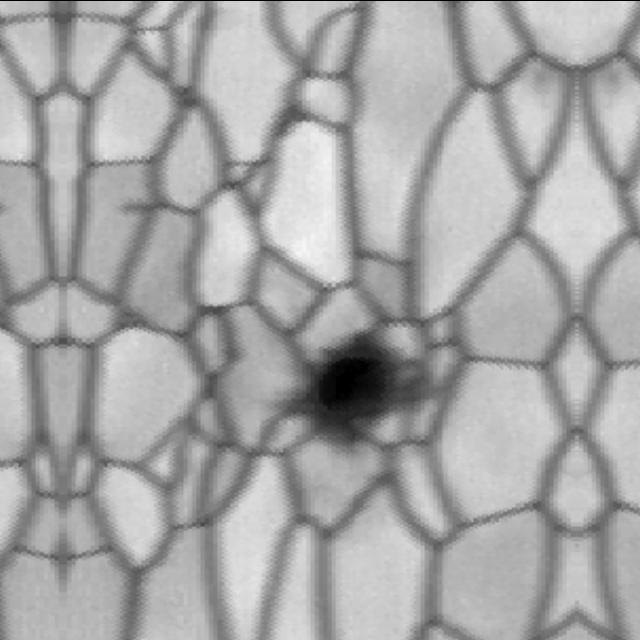good_void: (269, 318, 439, 458)
